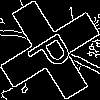P: (25, 25, 82, 78)
